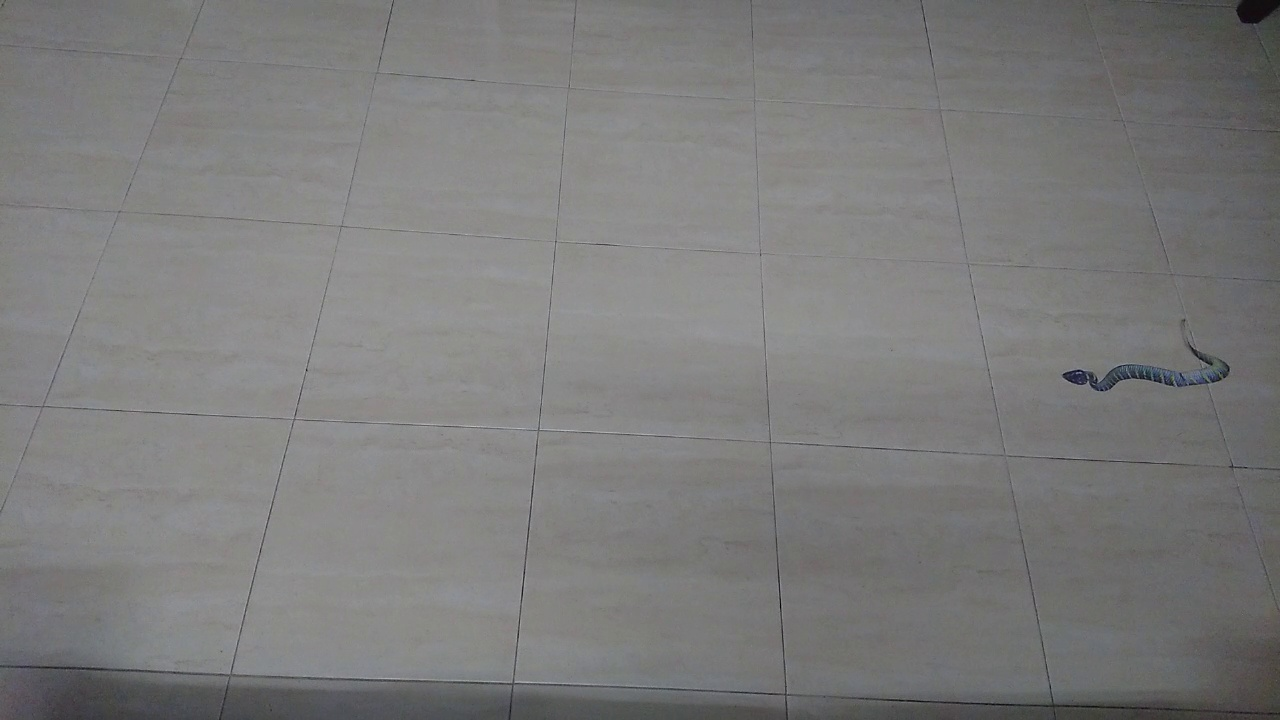snake: (1039, 297, 1247, 406)
